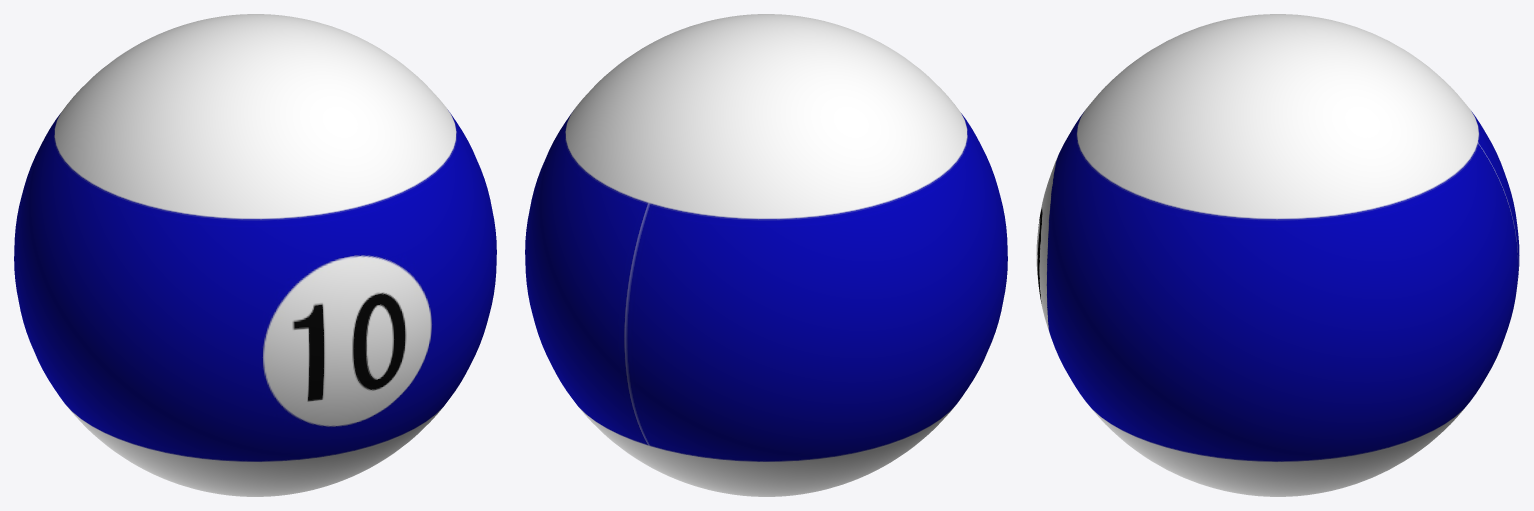
File: Ball10.obj
3 renders of one model, left to right at view 1: azimuth 30°, elevation 25°; view 2: azimuth 150°, elevation 25°; view 3: azimuth 270°, elevation 25°, orthographic.
Visible parts, largest first — view 1: Sphere; view 2: Sphere; view 3: Sphere.
Part boxes in pixels (<box>): Sphere: <box>14,14,496,496</box>; Sphere: <box>525,14,1007,496</box>; Sphere: <box>1036,14,1519,496</box>.
Size of the model in its own units: 2 by 2 by 2.
Materials: 1 (1 with a texture image).
